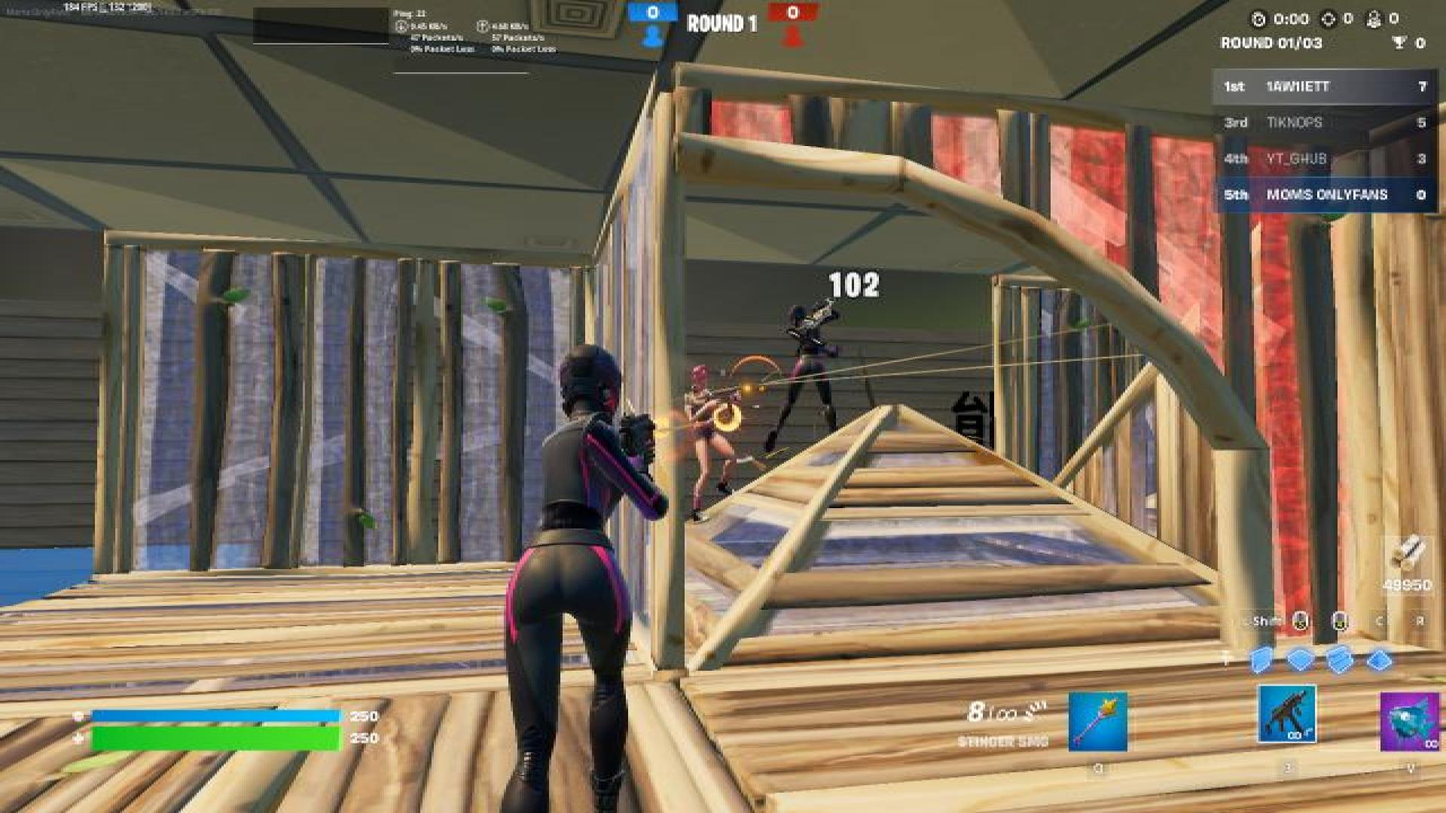player: (461, 329, 712, 813), (680, 363, 752, 512), (774, 296, 842, 437)
